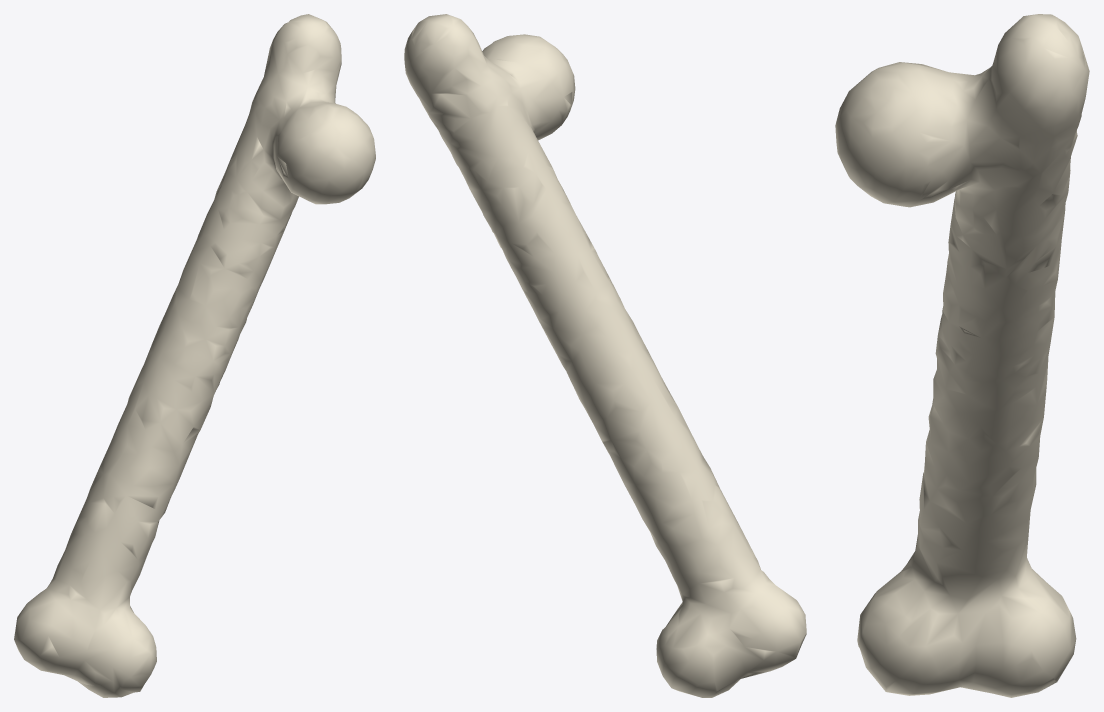
Rendered from femur_r.glb.
3 renders of one model, left to right at view 1: azimuth 30°, elevation 25°; view 2: azimuth 150°, elevation 25°; view 3: azimuth 270°, elevation 25°, orthographic. The views are drawn at different scales.
Visible parts, largest first — view 1: geometry_0; view 2: geometry_0; view 3: geometry_0.
Boxes of the visible parts, x1,y1,x2,y2 form: geometry_0: (14,14,375,697); geometry_0: (404,14,806,697); geometry_0: (835,14,1089,697).
Size of the model in its own units: 0.5387 by 0.8694 by 0.2392.
